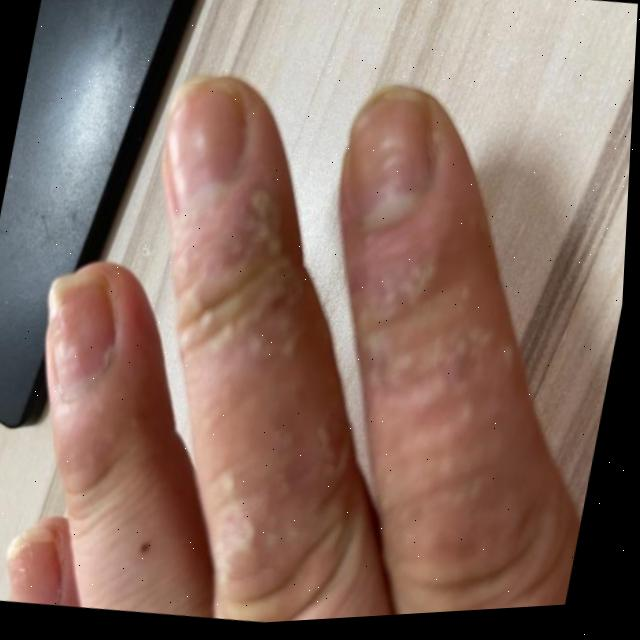Eczema: (39, 100, 561, 636)
